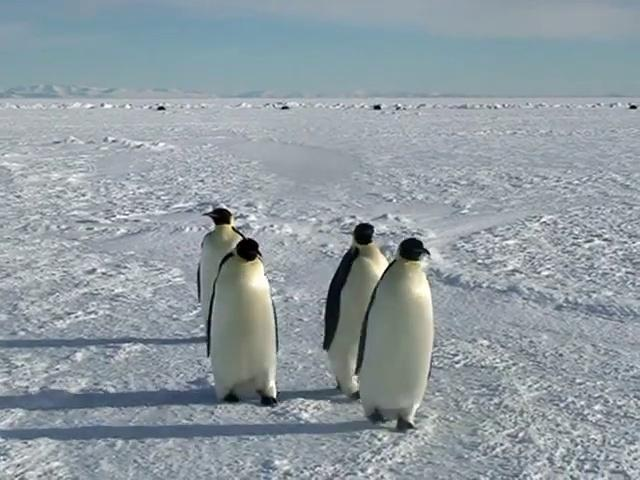animal: (358, 238, 433, 429)
